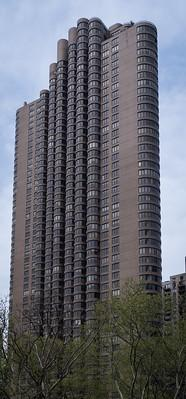building: (4, 15, 165, 394)
